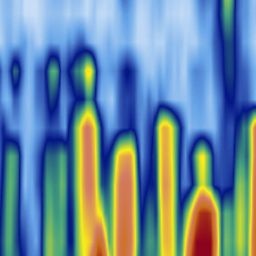defect: (144, 101, 185, 256), (69, 99, 107, 256), (109, 101, 136, 256), (39, 130, 70, 256), (230, 106, 256, 256), (1, 114, 25, 256), (214, 1, 248, 88), (185, 184, 221, 256), (39, 46, 61, 121), (66, 43, 96, 97), (186, 133, 214, 184), (117, 55, 135, 100), (7, 52, 22, 105)
